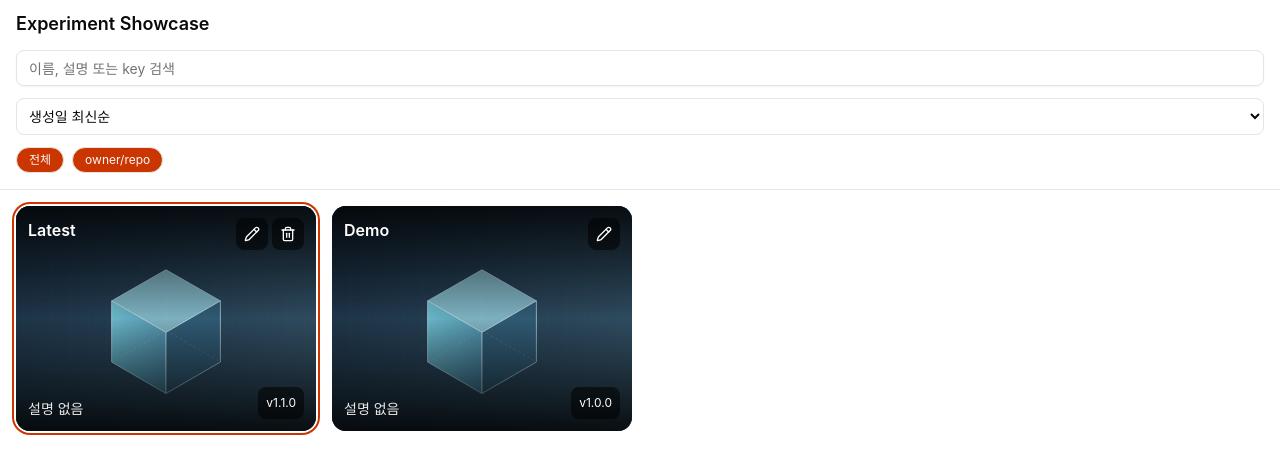
Test: confirms linked data and deletes only the selected version, promoting the previous card
Click the button named "Latest v1.1.0 삭제": (288, 234) left=272, top=218, right=304, bottom=250
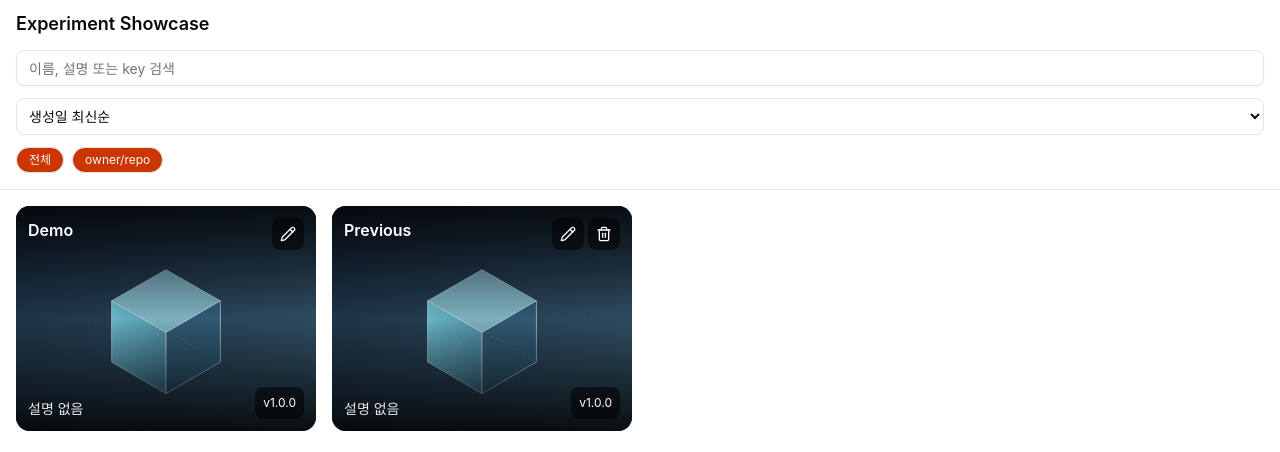
Check: the button named "Previous v1.0.0 선택" is shown, box left=332, top=206, right=632, bottom=431
